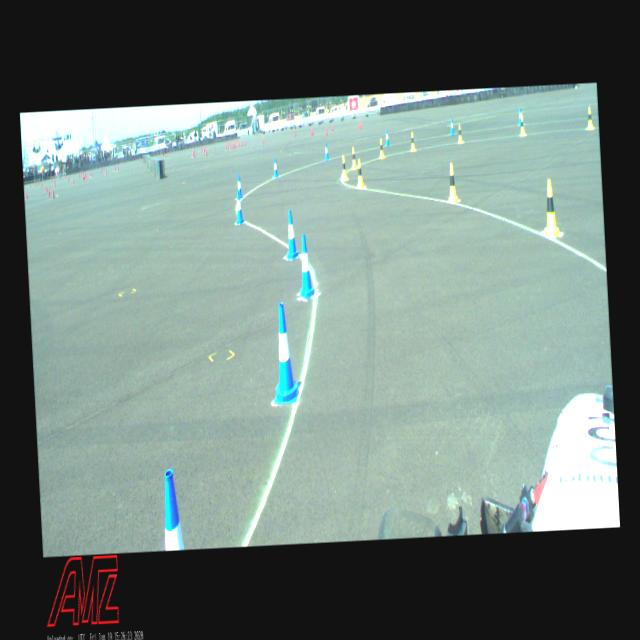blue_cone: (269, 302, 300, 403), (161, 469, 184, 551), (298, 234, 314, 298), (284, 210, 298, 259), (235, 191, 244, 224), (236, 174, 243, 198), (273, 158, 279, 178), (518, 108, 524, 126), (384, 130, 390, 146), (324, 144, 329, 160), (450, 119, 454, 135)
unknown_cone: (26, 190, 28, 200), (54, 178, 56, 188), (326, 127, 328, 136), (360, 121, 362, 130), (48, 188, 50, 196), (52, 190, 54, 198), (46, 185, 48, 192), (72, 178, 74, 185), (192, 150, 194, 157), (230, 142, 232, 149), (332, 124, 334, 131), (34, 181, 36, 187), (90, 172, 92, 178), (204, 146, 206, 152), (225, 144, 227, 150), (228, 139, 230, 145), (234, 142, 236, 148), (294, 130, 296, 136), (78, 173, 80, 178), (114, 166, 116, 170), (156, 154, 158, 158), (233, 142, 234, 150), (311, 128, 312, 136), (312, 128, 313, 136), (206, 149, 207, 156), (244, 139, 245, 146), (263, 137, 264, 144), (41, 181, 42, 187), (89, 172, 90, 178), (105, 171, 106, 177), (118, 166, 119, 172), (165, 152, 166, 158), (194, 152, 195, 158), (238, 142, 239, 148), (241, 140, 242, 146), (37, 180, 38, 185), (106, 171, 107, 176), (203, 148, 204, 153), (65, 174, 66, 178), (123, 160, 124, 164), (193, 148, 194, 152), (38, 180, 39, 184), (101, 169, 102, 173), (101, 165, 102, 169), (103, 166, 104, 170), (201, 145, 202, 149), (233, 142, 234, 146), (236, 139, 237, 143), (121, 162, 122, 164), (30, 182, 30, 188), (68, 176, 68, 182), (202, 148, 202, 153), (228, 144, 228, 150), (360, 120, 360, 128), (238, 140, 238, 144)
yellow_cone: (542, 180, 559, 237), (446, 164, 458, 202), (356, 159, 364, 187), (340, 155, 348, 180), (350, 146, 358, 170), (586, 106, 594, 130), (456, 124, 464, 144), (519, 116, 526, 136), (410, 131, 416, 151), (378, 138, 384, 158)
